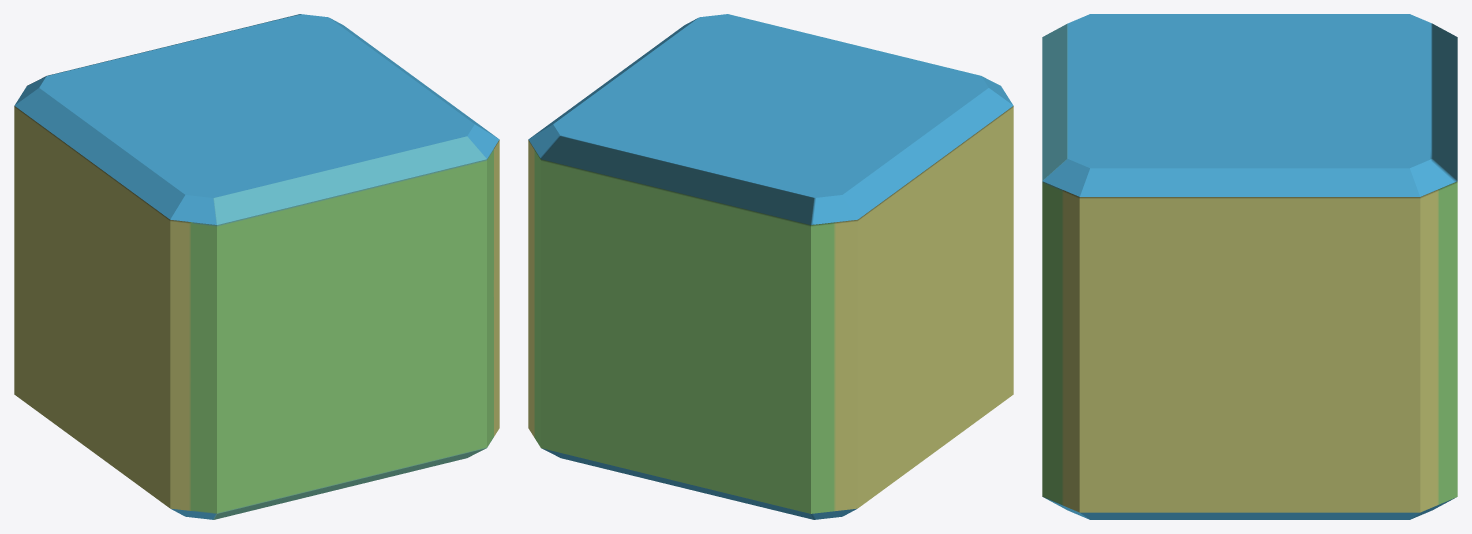
The model's file is rubber_box 1.FBX.
3 views of the same model, side by side, from view 1: azimuth 30°, elevation 25°; view 2: azimuth 150°, elevation 25°; view 3: azimuth 270°, elevation 25° (orthographic). The views are drawn at different scales.
Visible parts, largest first — view 1: Box001; view 2: Box001; view 3: Box001.
Part boxes in pixels (x1=…): Box001: x1=14, y1=14, x2=499, y2=519; Box001: x1=528, y1=14, x2=1013, y2=519; Box001: x1=1042, y1=14, x2=1457, y2=519.
Bounding box in the file's own units: 31.32 × 29.24 × 31.32.
